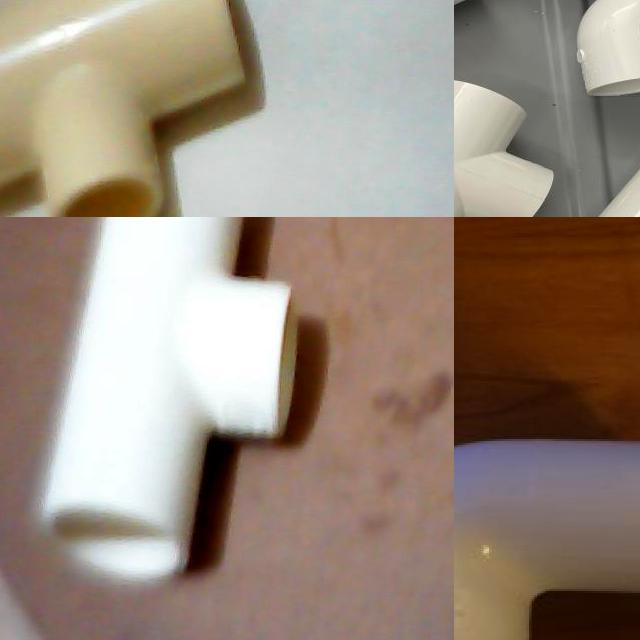L Joint: (454, 440, 640, 640)
T Joint: (36, 217, 299, 587), (454, 82, 556, 217)
